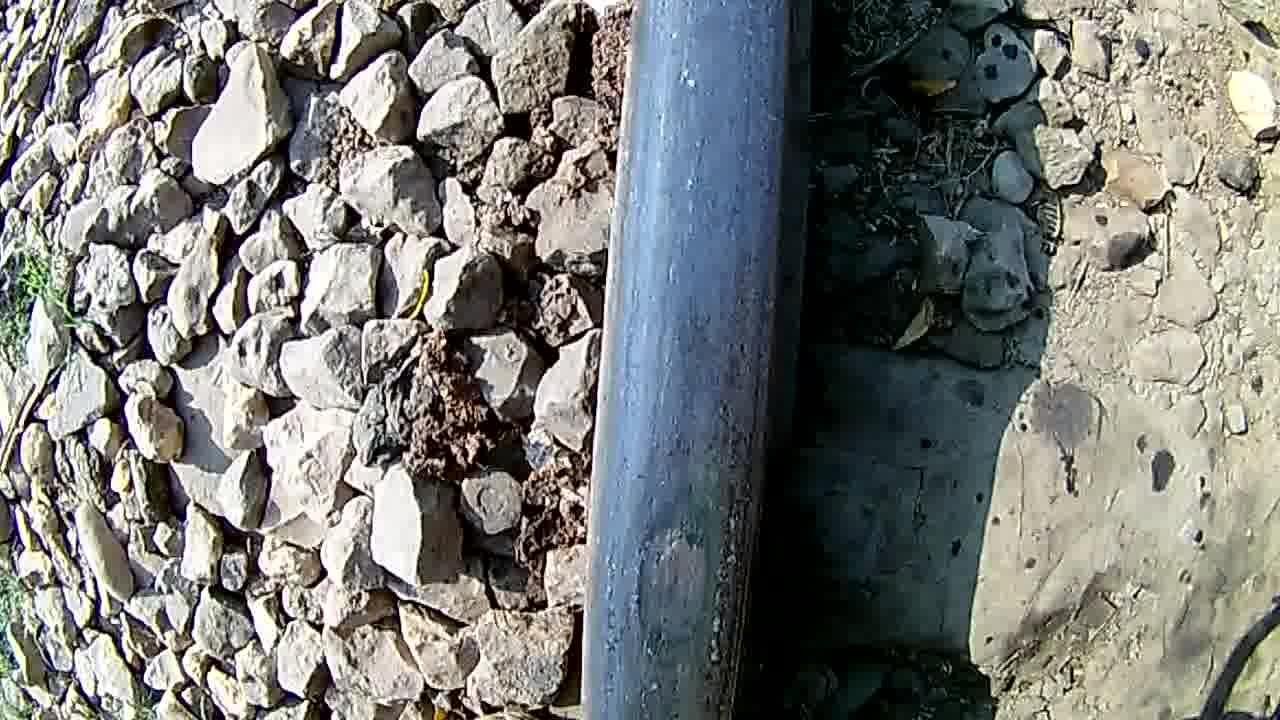bolt_missing: (586, 427, 764, 720)
